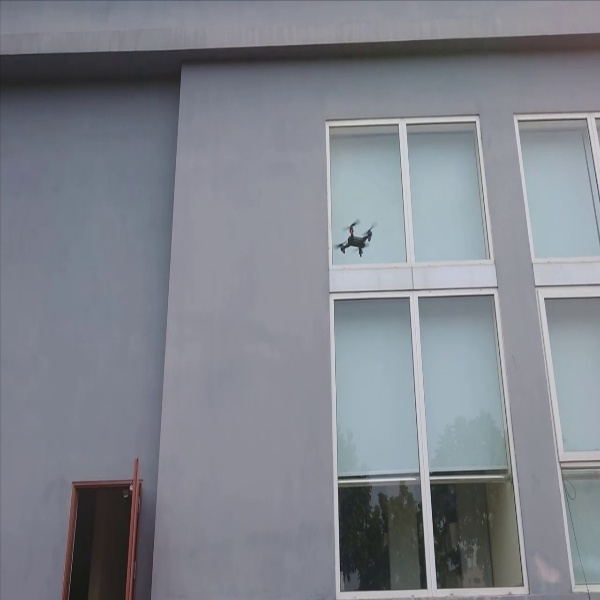drone: (334, 211, 382, 265)
